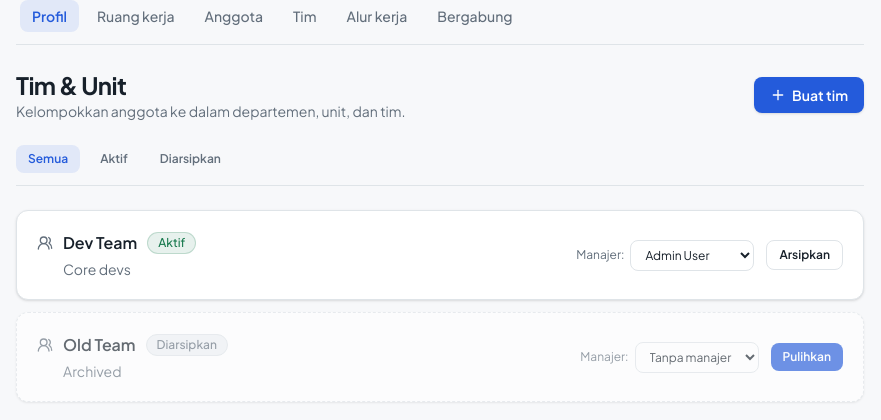
Test case: Task 6 — Member & Team Administration UI › renders teams with active/archived toggle and manager assign
Expected: the text "Dev Team" is shown, [63, 231, 137, 255]
Expected: the text "Old Team" is shown, [63, 333, 136, 357]
// Filter to active only
Click the button "Aktif": (114, 159) [88, 145, 140, 173]
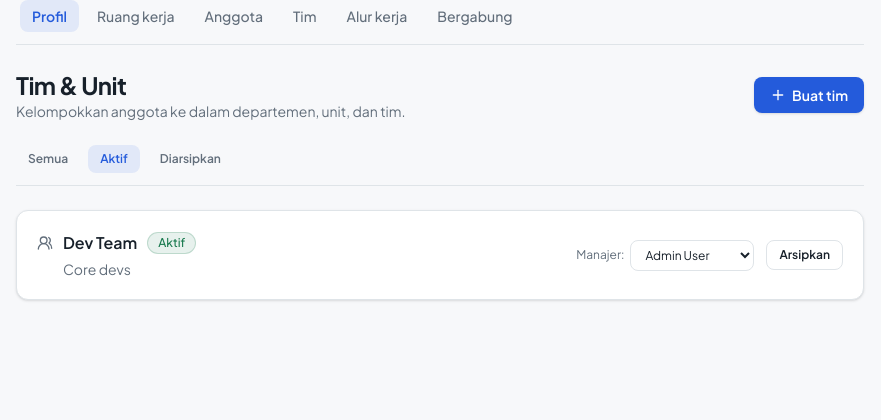
Expected: the text "Dev Team" is shown, [63, 231, 137, 255]
Now the text "Old Team" is gone
